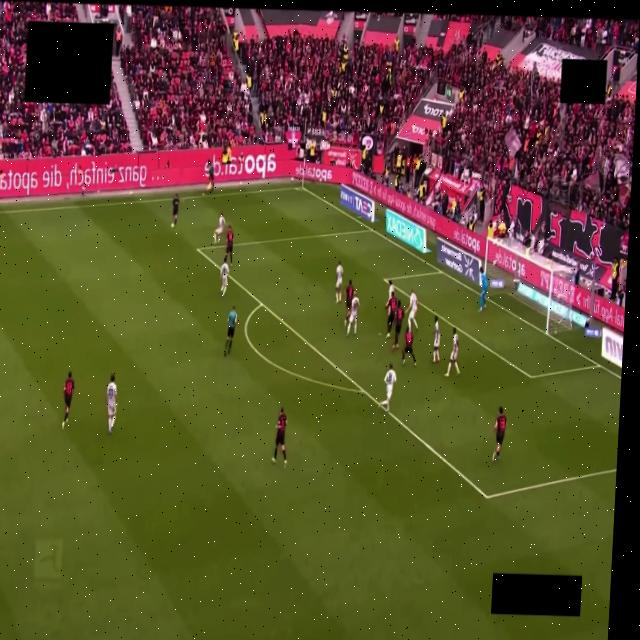ball: (172, 223, 175, 228)
player: (271, 408, 286, 466), (105, 374, 117, 434), (380, 364, 395, 411), (492, 407, 505, 461), (444, 328, 458, 377), (384, 291, 398, 339), (62, 372, 73, 428), (346, 292, 359, 337), (392, 300, 403, 348), (402, 328, 415, 366), (344, 281, 354, 324), (407, 292, 417, 328), (479, 267, 487, 311), (213, 213, 224, 243), (432, 316, 439, 363), (225, 225, 233, 266), (335, 261, 343, 302), (220, 256, 228, 295), (171, 194, 179, 228), (387, 280, 394, 300)
referee: (224, 306, 236, 356)
